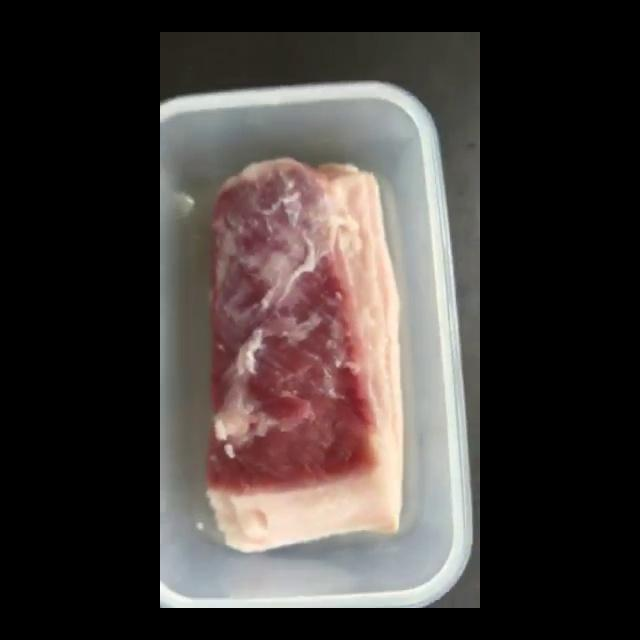pork: (211, 157, 401, 534), (160, 32, 162, 34)
